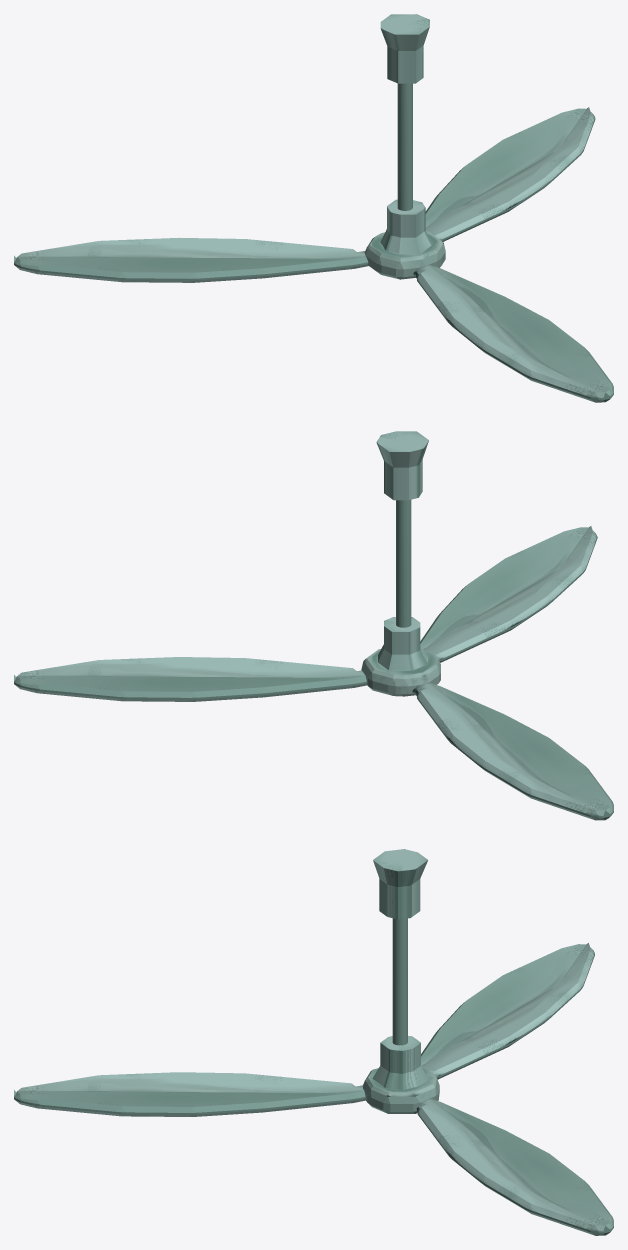
File: Vent.fbx
3 renders of one model, top to bottom at view 1: azimuth 30°, elevation 25°; view 2: azimuth 150°, elevation 25°; view 3: azimuth 270°, elevation 25°, orthographic.
Visible parts, largest first — view 1: VentPart1Mash, VentPart1Mash.001, VentPart1Mash.002, VentLowerBaseMash, VentBaseMash, VentHolderMash; view 2: VentPart1Mash.002, VentPart1Mash, VentPart1Mash.001, VentLowerBaseMash, VentBaseMash, VentHolderMash; view 3: VentPart1Mash.001, VentPart1Mash.002, VentPart1Mash, VentLowerBaseMash, VentBaseMash, VentHolderMash.
Boxes of the visible parts, left/top/right/bottom form: VentPart1Mash: left=14, top=237, right=368, bottom=282; VentPart1Mash.001: left=413, top=265, right=613, bottom=402; VentPart1Mash.002: left=425, top=107, right=595, bottom=241; VentLowerBaseMash: left=364, top=199, right=445, bottom=279; VentBaseMash: left=380, top=14, right=429, bottom=83; VentHolderMash: left=397, top=83, right=412, bottom=210; VentPart1Mash.002: left=14, top=657, right=366, bottom=701; VentPart1Mash: left=412, top=683, right=613, bottom=820; VentPart1Mash.001: left=420, top=526, right=597, bottom=662; VentLowerBaseMash: left=361, top=617, right=440, bottom=696; VentBaseMash: left=376, top=431, right=428, bottom=500; VentHolderMash: left=396, top=499, right=411, bottom=627; VentPart1Mash.001: left=14, top=1072, right=365, bottom=1116; VentPart1Mash.002: left=416, top=1099, right=613, bottom=1235; VentPart1Mash: left=421, top=943, right=594, bottom=1079; VentLowerBaseMash: left=363, top=1036, right=439, bottom=1113; VentBaseMash: left=373, top=849, right=427, bottom=919; VentHolderMash: left=392, top=918, right=407, bottom=1045.
Bounding box in the file's own units: 356 × 139 × 317.
5 materials, 5 textured.
